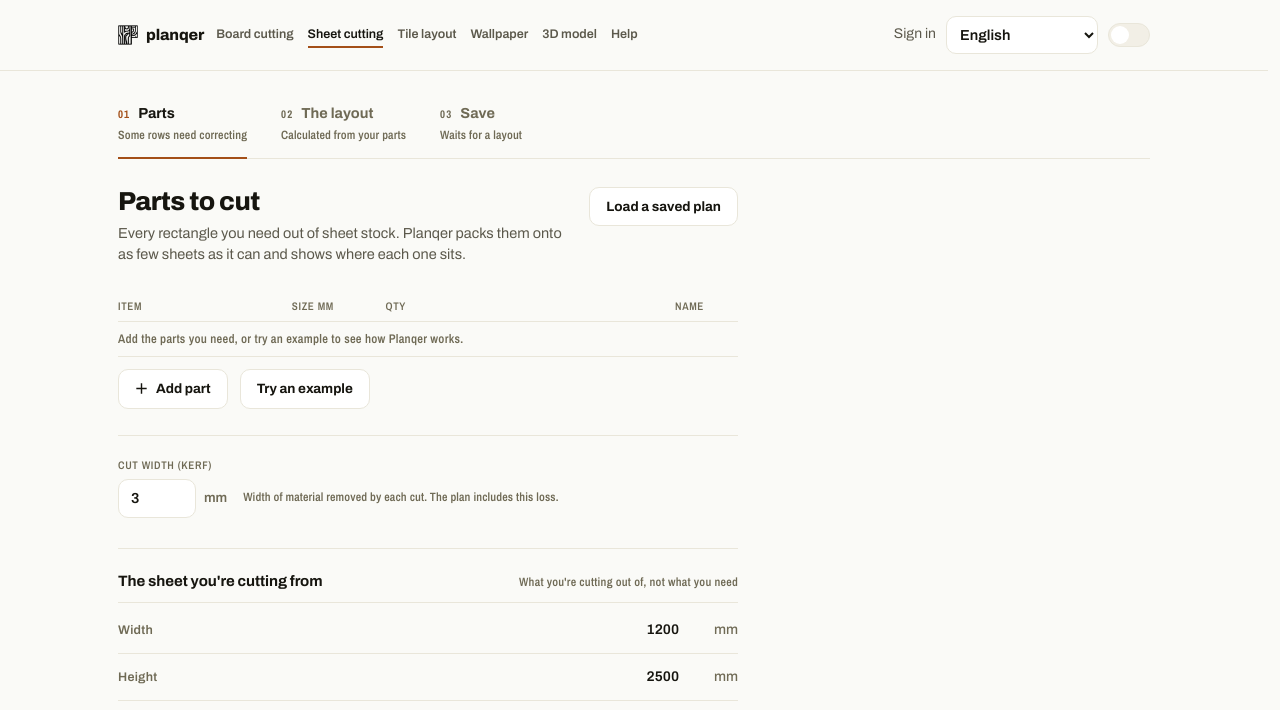
Test case: starts empty and loads named example parts on request
Check: the field showing "800" is not shown
Check: the text "Add the parts you need" is shown, box x1=118 y1=330 x2=463 y2=347
Click the button "Try an example" at (305,389), box x1=240 y1=369 x2=370 y2=409
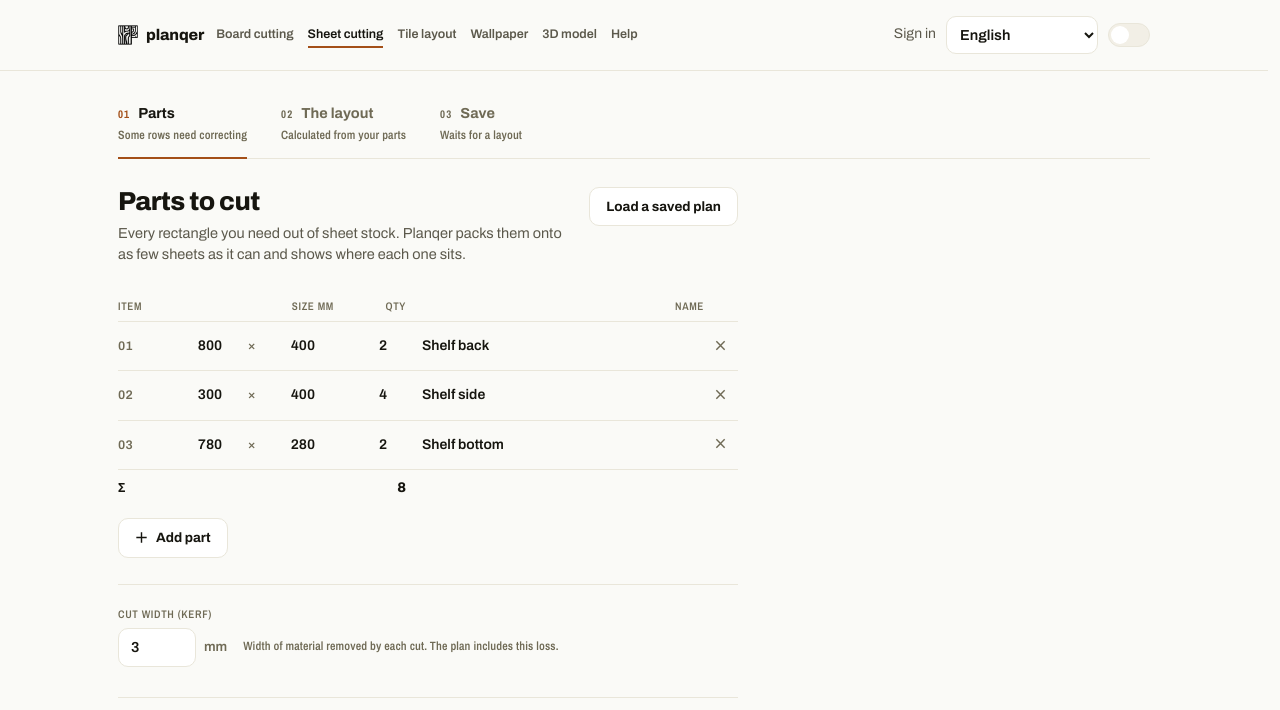
Check: the number field showing "800" is shown, box x1=169 y1=331 x2=241 y2=361
Check: the field showing "Shelf back" is shown, box x1=418 y1=331 x2=704 y2=361
Check: the field showing "Shelf bottom" is shown, box x1=418 y1=430 x2=704 y2=460
